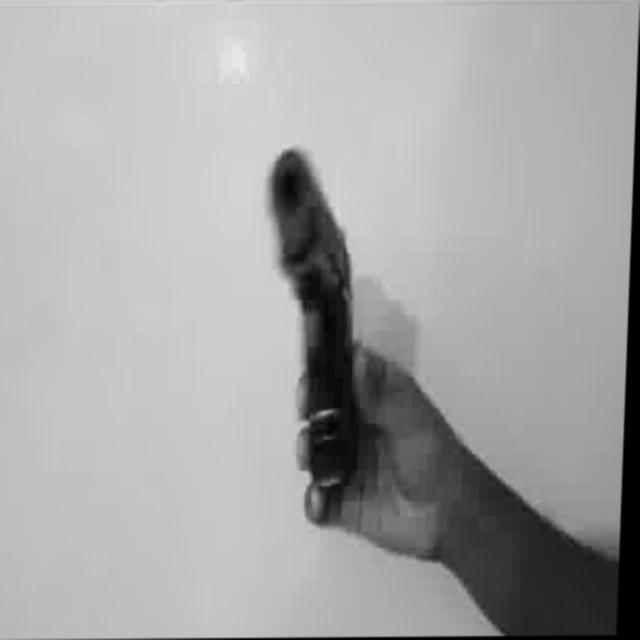weapon: (260, 144, 378, 501)
